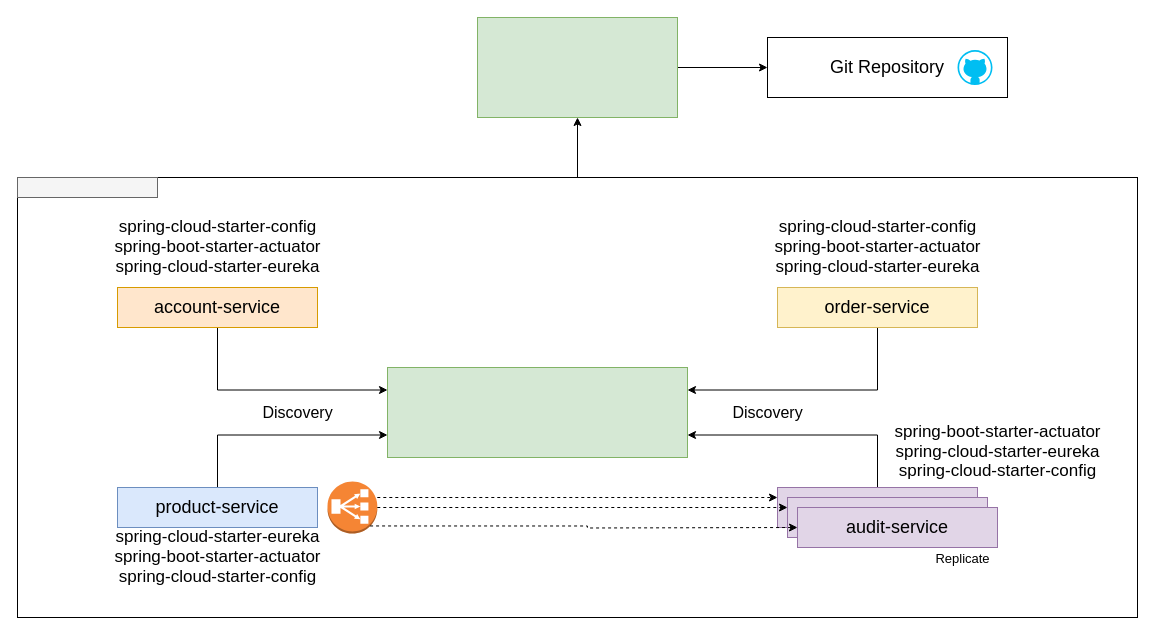
This 1155x635 diagram has some shape labels left out. The centre of each missing label's shape, as x and y in pixels:
Config client: the point at 87,187
config-server spring-cloud-config-server: the point at 577,67
Service Registration spring-cloud-starter-eureka-server: the point at 537,412
